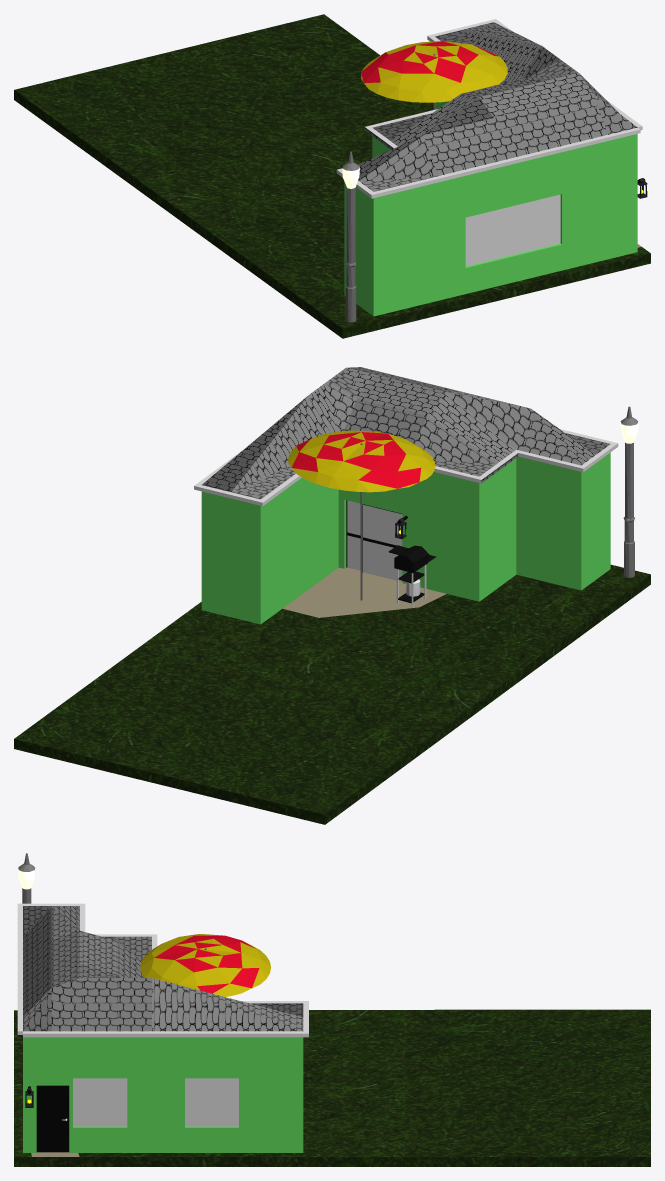
Rendered from VikramsHouse.glb.
The picture shows the model from 3 angles, top to bottom: view 1: azimuth 30°, elevation 25°; view 2: azimuth 150°, elevation 25°; view 3: azimuth 270°, elevation 25°; orthographic projection. The views are drawn at different scales.
Visible parts, largest first — view 1: Ground, Walls, Roof, Beach Umbrella, Windows, Streetlight; view 2: Ground, Walls, Roof, Beach Umbrella, Doors, Streetlight, Grill; view 3: Ground, Walls, Roof, Beach Umbrella, Windows, Doors, Streetlight.
Part boxes in pixels (x1=…): Ground: x1=14, y1=14, x2=650, y2=338; Walls: x1=344, y1=101, x2=637, y2=316; Roof: x1=336, y1=19, x2=642, y2=198; Beach Umbrella: x1=361, y1=41, x2=507, y2=109; Windows: x1=465, y1=194, x2=560, y2=266; Streetlight: x1=342, y1=151, x2=359, y2=322; Ground: x1=14, y1=564, x2=650, y2=824; Walls: x1=201, y1=452, x2=610, y2=624; Roof: x1=194, y1=367, x2=618, y2=506; Beach Umbrella: x1=288, y1=430, x2=435, y2=600; Doors: x1=346, y1=500, x2=402, y2=581; Streetlight: x1=620, y1=406, x2=638, y2=577; Grill: x1=388, y1=545, x2=436, y2=607; Ground: x1=14, y1=1009, x2=650, y2=1166; Walls: x1=23, y1=1037, x2=303, y2=1152; Roof: x1=17, y1=903, x2=308, y2=1037; Beach Umbrella: x1=140, y1=934, x2=270, y2=996; Windows: x1=73, y1=1078, x2=238, y2=1126; Doors: x1=36, y1=1085, x2=68, y2=1152; Streetlight: x1=18, y1=853, x2=35, y2=903.
Size of the model in its own units: 9.88 by 5.39 by 17.9.
22 materials, 2 textured.
